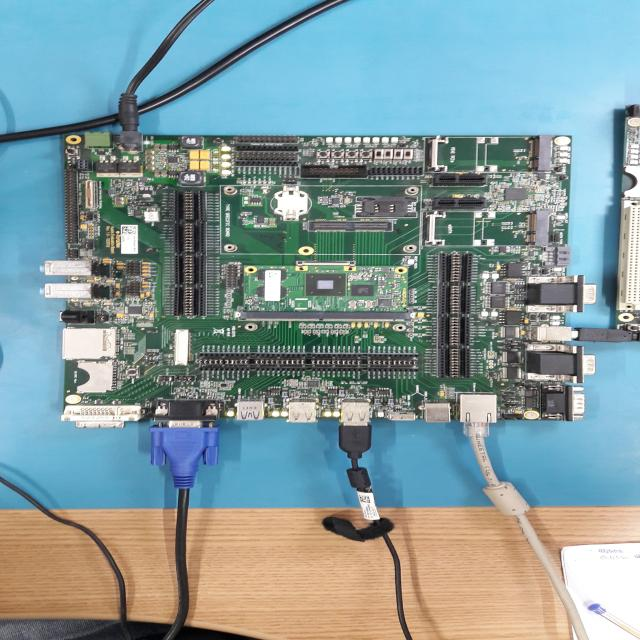som: (237, 264, 421, 320)
